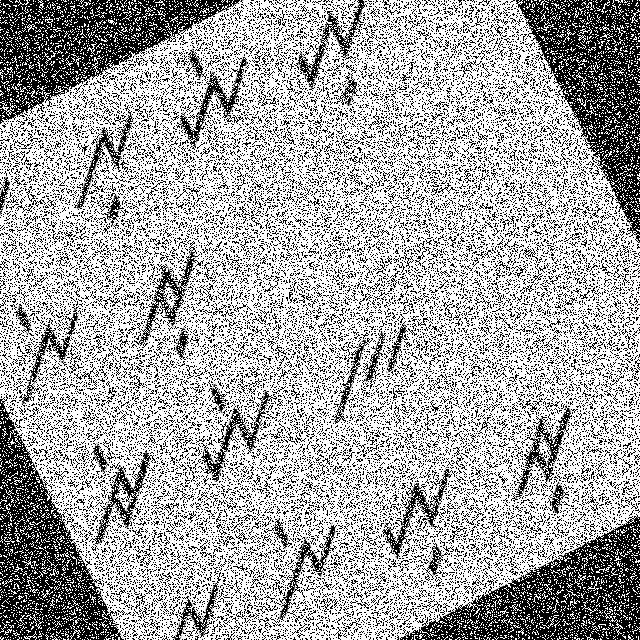le: (224, 488, 368, 633), (0, 269, 116, 411)
lu: (39, 103, 180, 242), (121, 566, 271, 639)
re: (45, 416, 187, 563), (0, 140, 49, 283)
ru: (97, 228, 244, 380), (484, 388, 620, 534)
ye: (164, 358, 307, 501), (143, 21, 274, 151)
yu: (354, 449, 498, 596), (272, 0, 416, 129)
